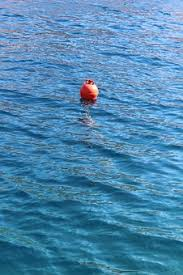buoy: (80, 81, 99, 101)
